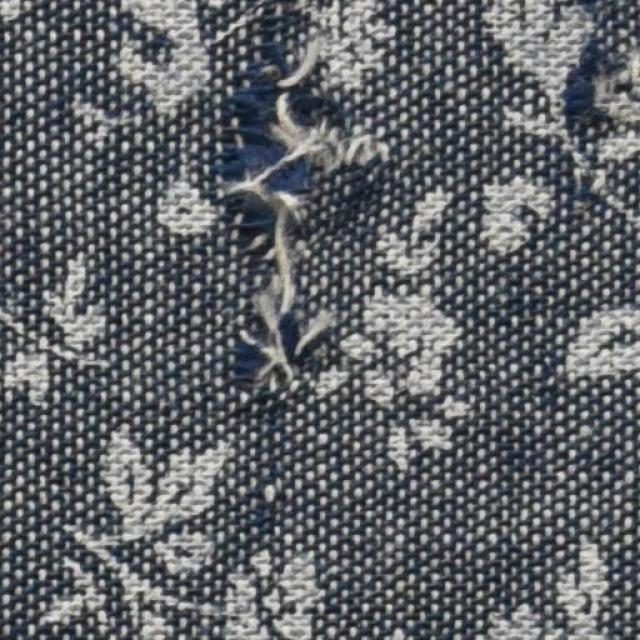Snag: (206, 2, 373, 402), (554, 20, 639, 177)
